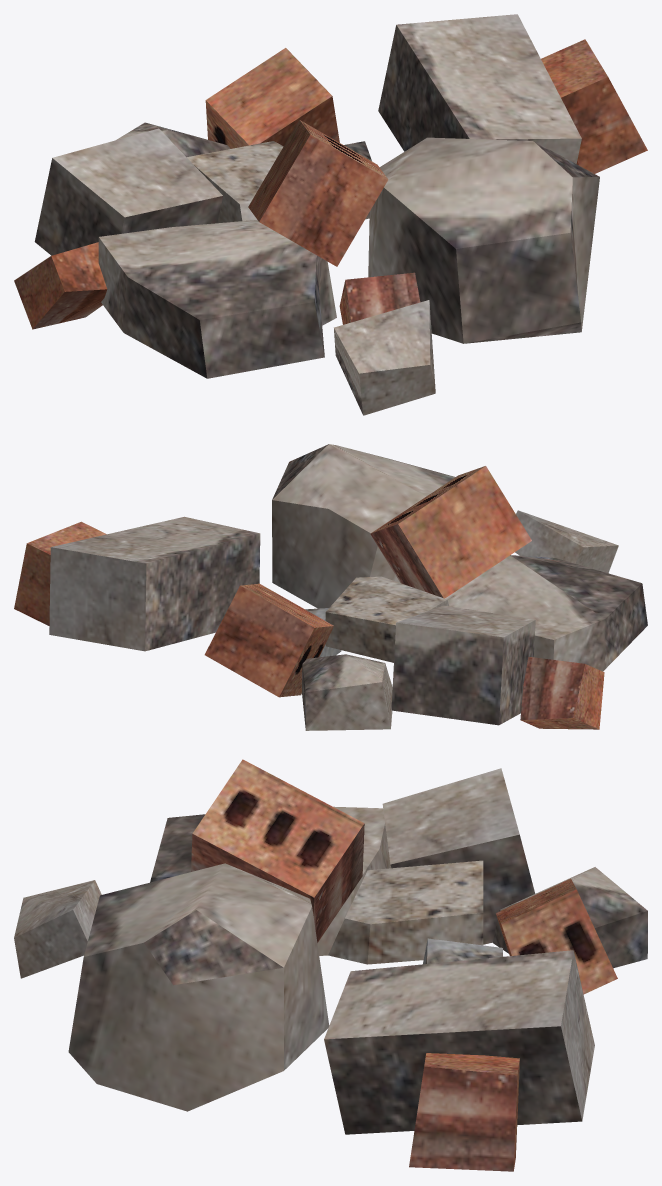
The model's file is Debris2_6.fbx.
3 renders of one model, top to bottom at view 1: azimuth 30°, elevation 25°; view 2: azimuth 150°, elevation 25°; view 3: azimuth 270°, elevation 25°, orthographic. The views are drawn at different scales.
Parts seen in each view (by area): view 1: polySurface287; view 2: polySurface287; view 3: polySurface287.
Part boxes in pixels (<box>): polySurface287: <box>14,14,647,415</box>; polySurface287: <box>14,444,647,730</box>; polySurface287: <box>14,759,647,1171</box>.
Size of the model in its own units: 1.25 by 0.4016 by 1.01.
